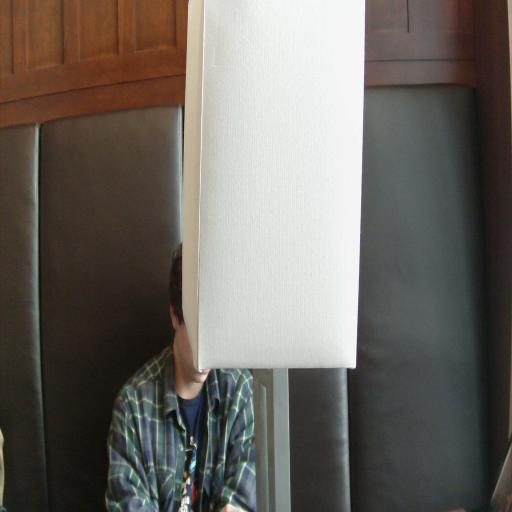lamp: (182, 0, 365, 512)
